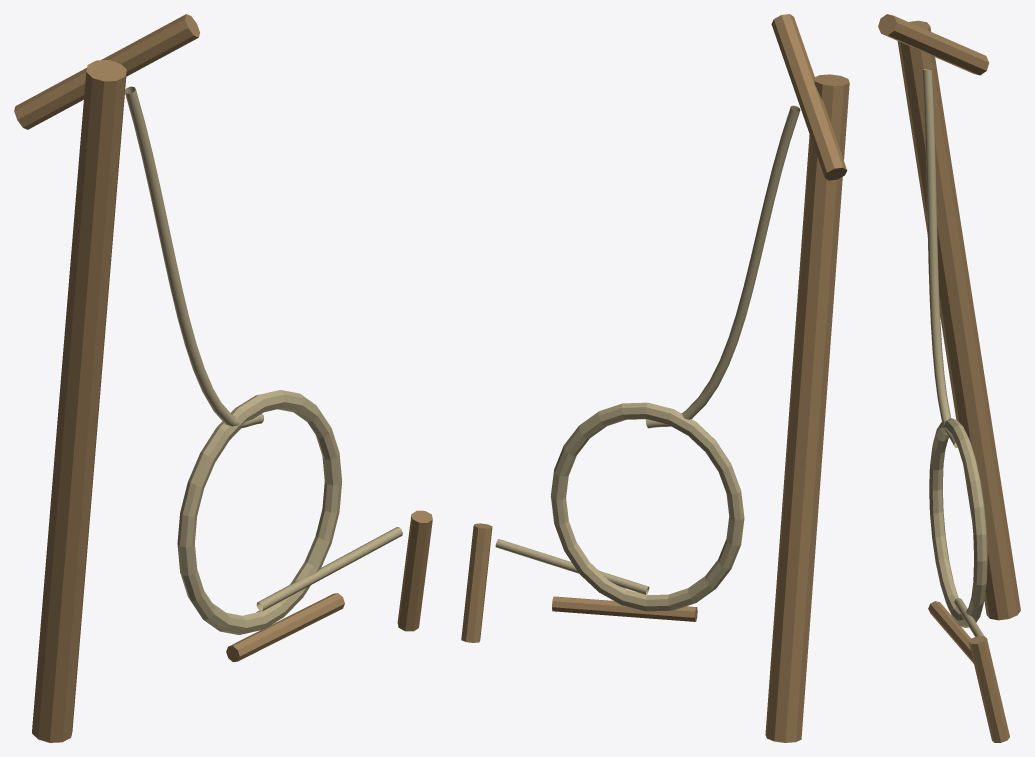
The model's file is snare_trap.glb.
3 renders of one model, left to right at view 1: azimuth 30°, elevation 25°; view 2: azimuth 150°, elevation 25°; view 3: azimuth 270°, elevation 25°, orthographic. The views are drawn at different scales.
Parts seen in each view (by area): view 1: snare_trap; view 2: snare_trap; view 3: snare_trap.
Part boxes in pixels (<box>): snare_trap: <box>14,14,432,742</box>; snare_trap: <box>461,14,849,742</box>; snare_trap: <box>878,14,1020,742</box>.
Size of the model in its own units: 0.648 by 1.12 by 0.2305.
